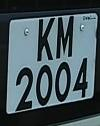0: (33, 60, 57, 111), (52, 58, 76, 108)
2: (12, 62, 36, 115)
4: (72, 55, 92, 105)
K: (34, 14, 57, 64)
M: (54, 13, 79, 62)
